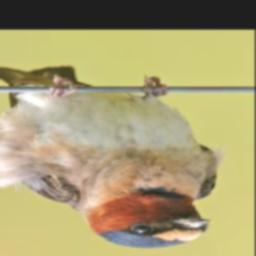Swallow: (0, 64, 226, 249)
